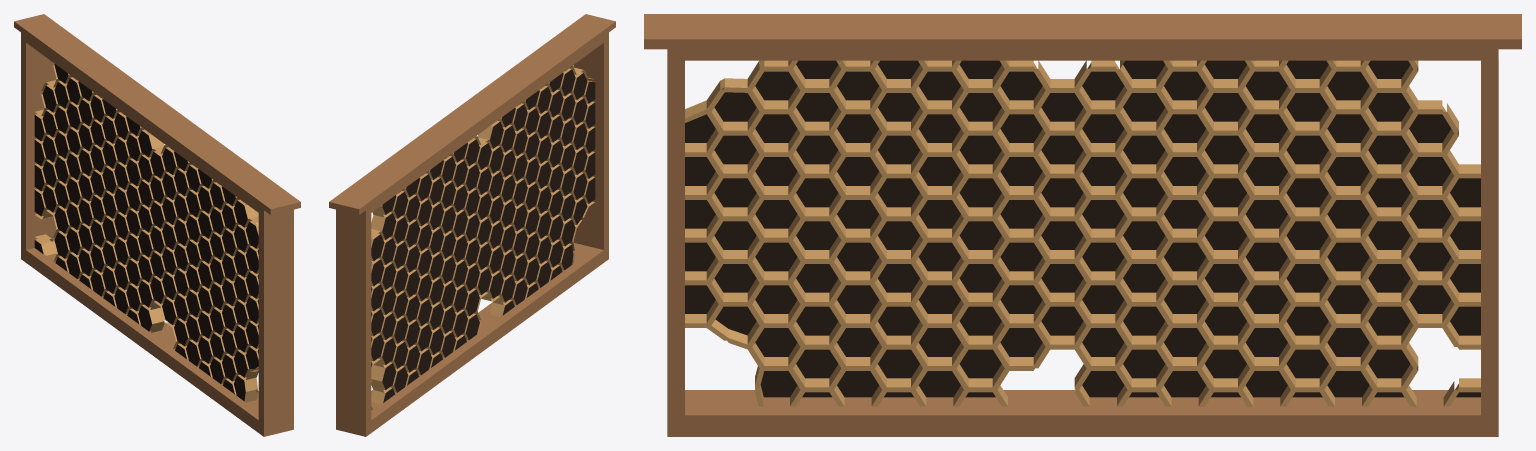
Rendered from BeeFrameUsed.fbx.
3 views of the same model, side by side, from view 1: azimuth 30°, elevation 25°; view 2: azimuth 150°, elevation 25°; view 3: azimuth 270°, elevation 25° (orthographic). The views are drawn at different scales.
Visible parts, largest first — view 1: BeeFrameUsed; view 2: BeeFrameUsed; view 3: BeeFrameUsed.
Boxes of the visible parts, x1,y1,x2,y2 form: BeeFrameUsed: [14, 14, 300, 436]; BeeFrameUsed: [329, 14, 615, 436]; BeeFrameUsed: [644, 14, 1521, 436].
Size of the model in its own units: 6.45 by 47.5 by 95.
